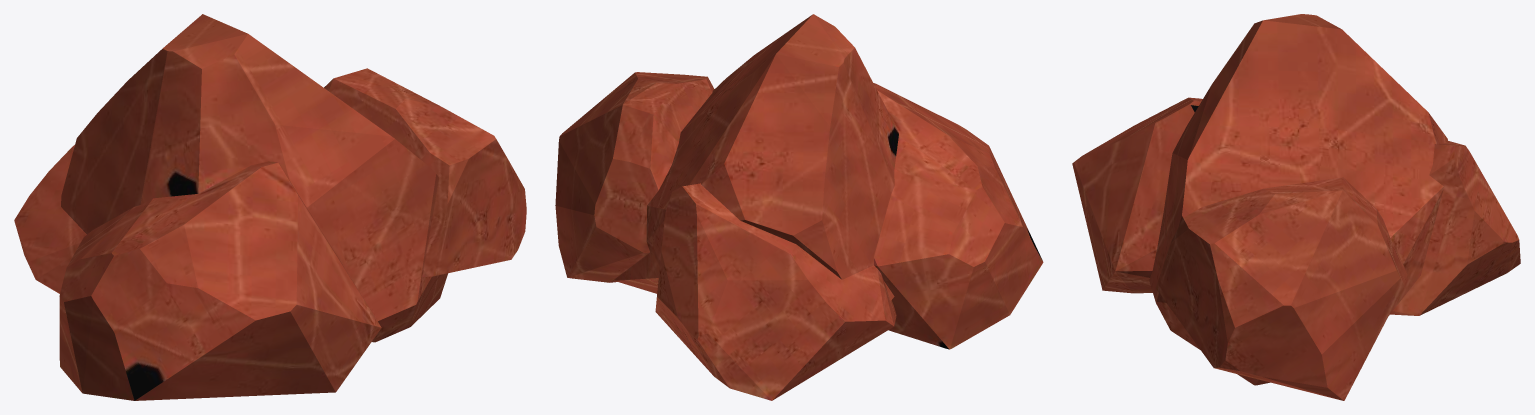
The model's file is res_clay.glb.
3 renders of one model, left to right at view 1: azimuth 30°, elevation 25°; view 2: azimuth 150°, elevation 25°; view 3: azimuth 270°, elevation 25°, orthographic. The views are drawn at different scales.
Parts seen in each view (by area): view 1: res_clay; view 2: res_clay; view 3: res_clay.
Part boxes in pixels (<box>): res_clay: <box>14,14,526,400</box>; res_clay: <box>555,14,1043,400</box>; res_clay: <box>1072,14,1520,400</box>.
Size of the model in its own units: 0.86 by 0.5593 by 0.8085.
1 material, 1 textured.
